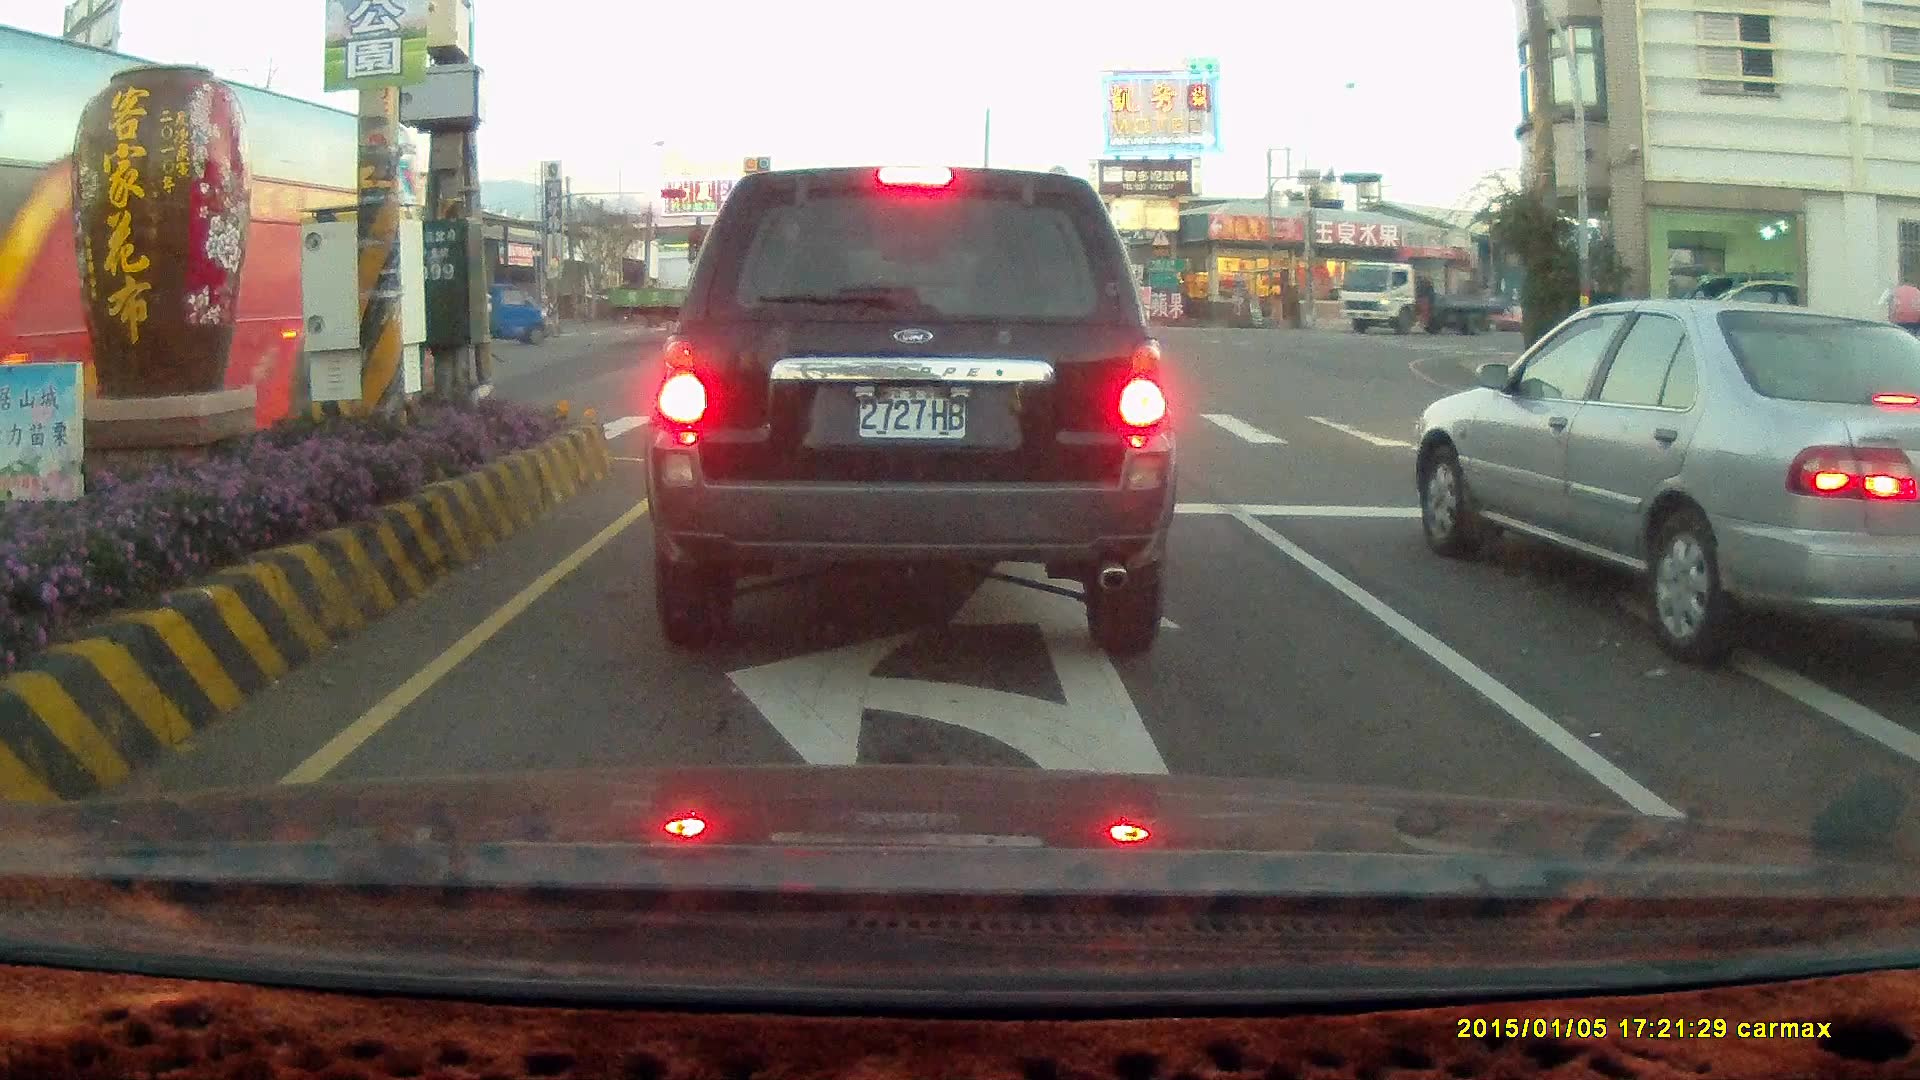vehicle: (641, 162, 1179, 658), (1408, 295, 1920, 670), (1428, 301, 1920, 679), (604, 255, 866, 344), (1337, 258, 1495, 338), (1646, 276, 1789, 359), (1896, 493, 1920, 836), (1038, 277, 1138, 347), (473, 280, 551, 348)
